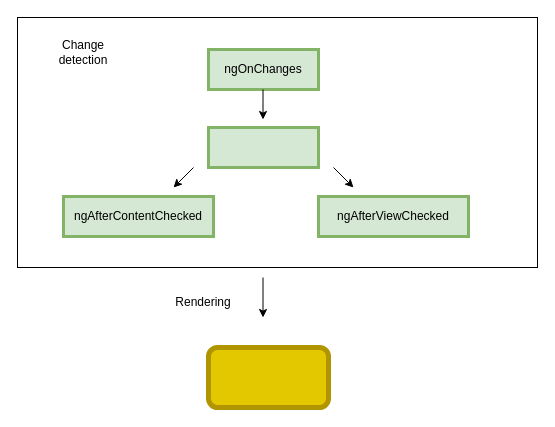
Some shapes in this 555 by 427 pixel diagram are drawn without their labels. Each missing label, with the centre of its shape:
afterRender: the point at 268,377
ngDoCheck: the point at 263,147
